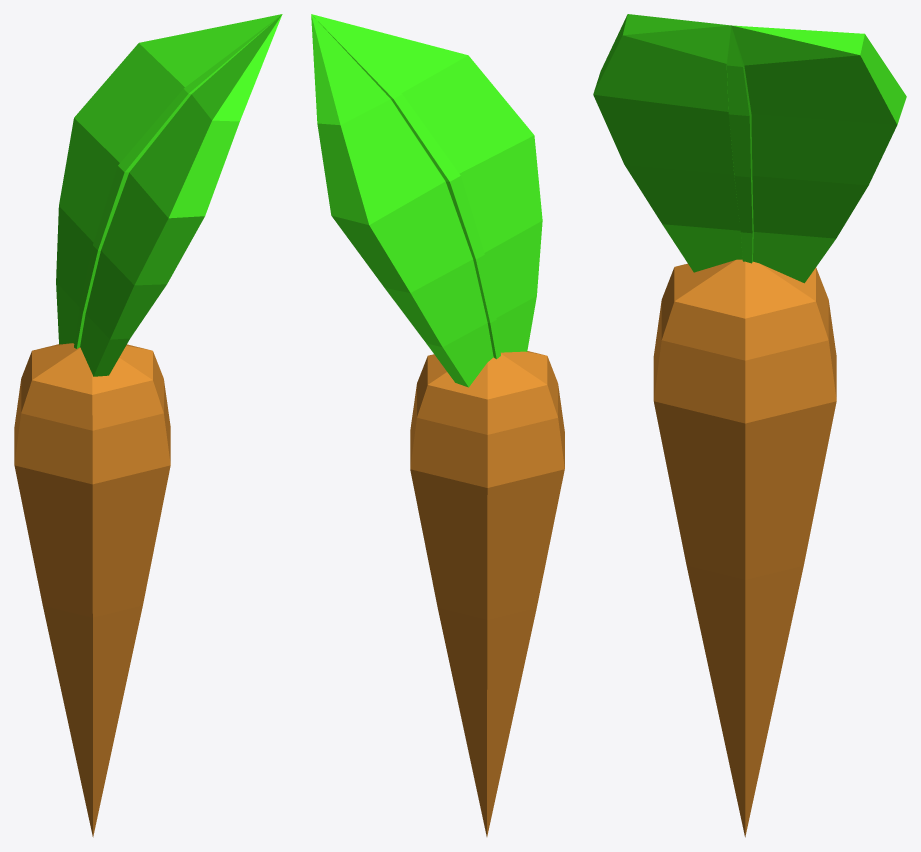
File: Carrot.fbx
3 renders of one model, left to right at view 1: azimuth 30°, elevation 25°; view 2: azimuth 150°, elevation 25°; view 3: azimuth 270°, elevation 25°, orthographic. The views are drawn at different scales.
Visible parts, largest first — view 1: Cube.019; view 2: Cube.019; view 3: Cube.019.
Boxes of the visible parts, bbox=[...] form: Cube.019: bbox=[14, 14, 282, 837]; Cube.019: bbox=[311, 14, 564, 836]; Cube.019: bbox=[593, 14, 906, 837].
Bounding box in the file's own units: 105 × 118 × 338.
